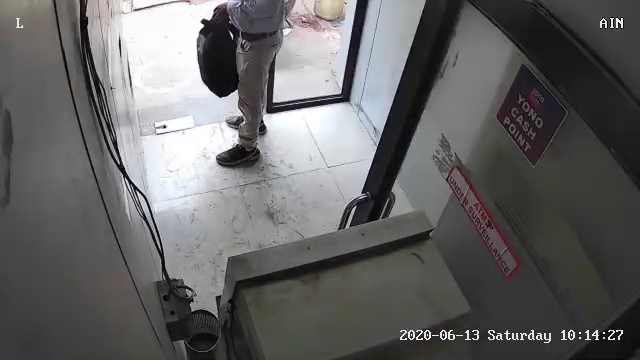open: (107, 4, 376, 141)
